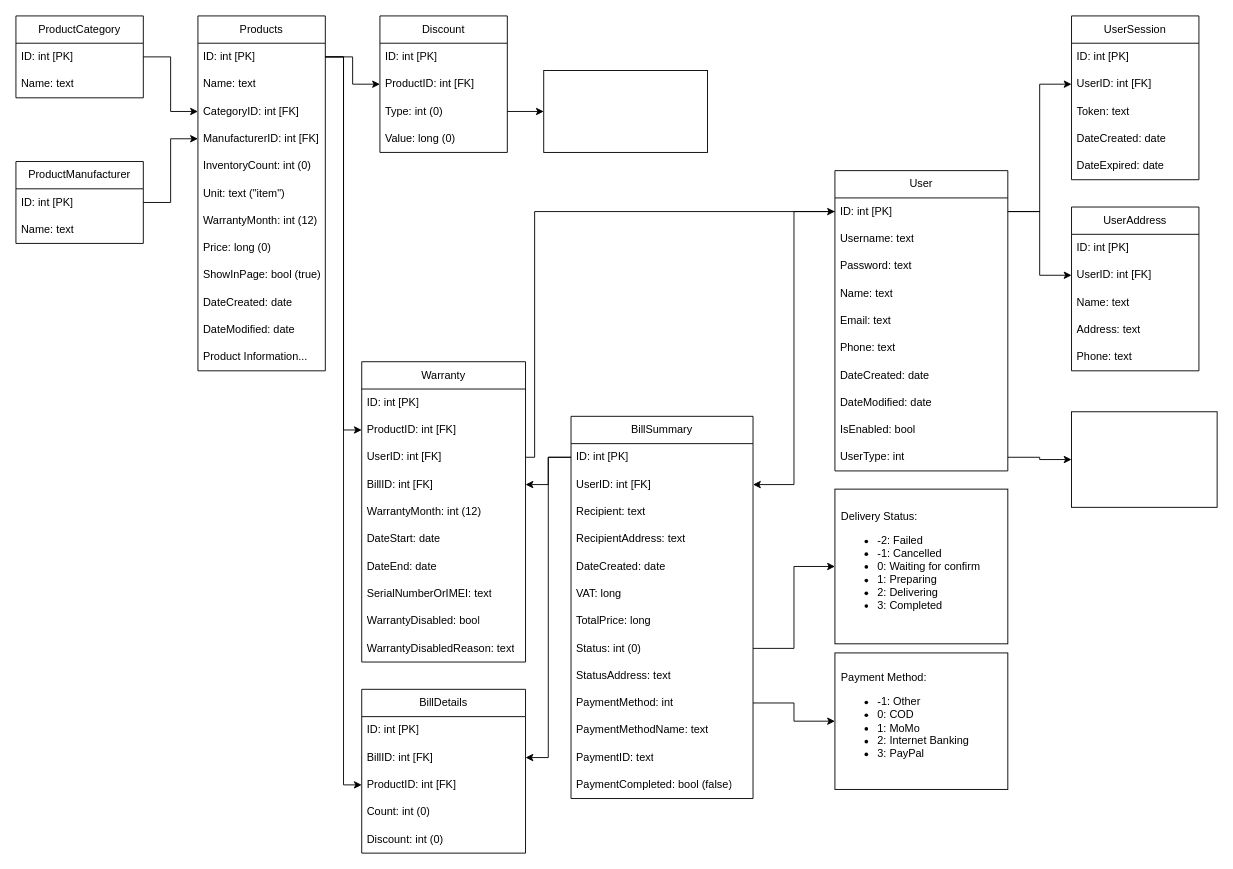
Some shapes in this 1233 by 869 pixel diagram are drawn without their labels. Here are the shapes that lost their labels. From the top down, the centre of each, then its label:
At point (625, 111): "Discount By: 0: Percent (0 - 100%) 1: Money".
At point (1144, 459): "UserType: 0: Normal user 1: Staff user 2: Administrator".
